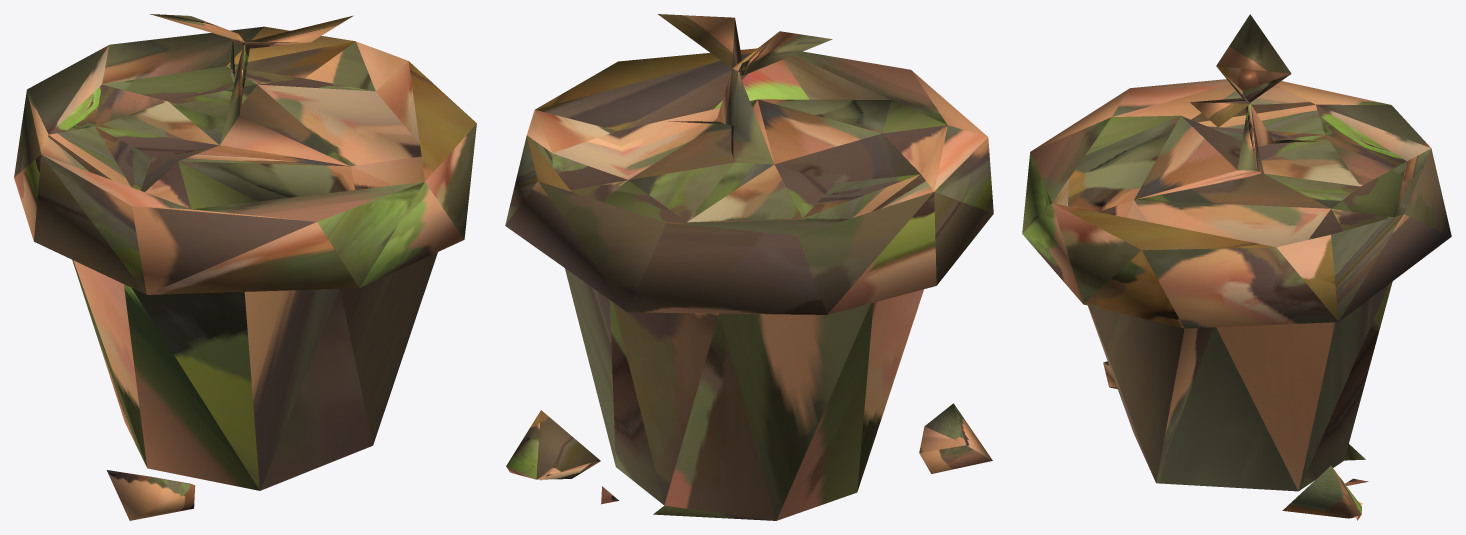
The model's file is FlowerpotCollider.fbx.
The picture shows the model from 3 angles, left to right: view 1: azimuth 30°, elevation 25°; view 2: azimuth 150°, elevation 25°; view 3: azimuth 270°, elevation 25°; orthographic projection. The views are drawn at different scales.
Parts seen in each view (by area): view 1: input; view 2: input; view 3: input.
Part boxes in pixels (<box>): input: <box>14,14,476,520</box>; input: <box>505,14,993,520</box>; input: <box>1022,14,1451,520</box>.
Bounding box in the file's own units: 177 × 197 × 191.
